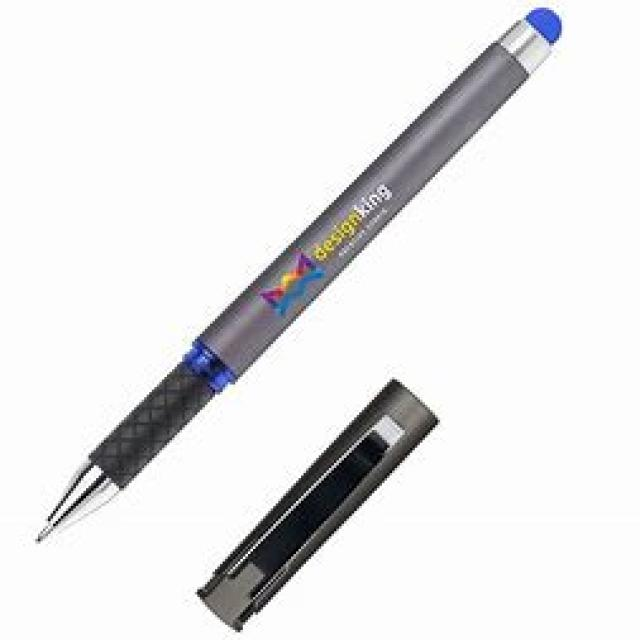pen: (37, 4, 562, 546)
